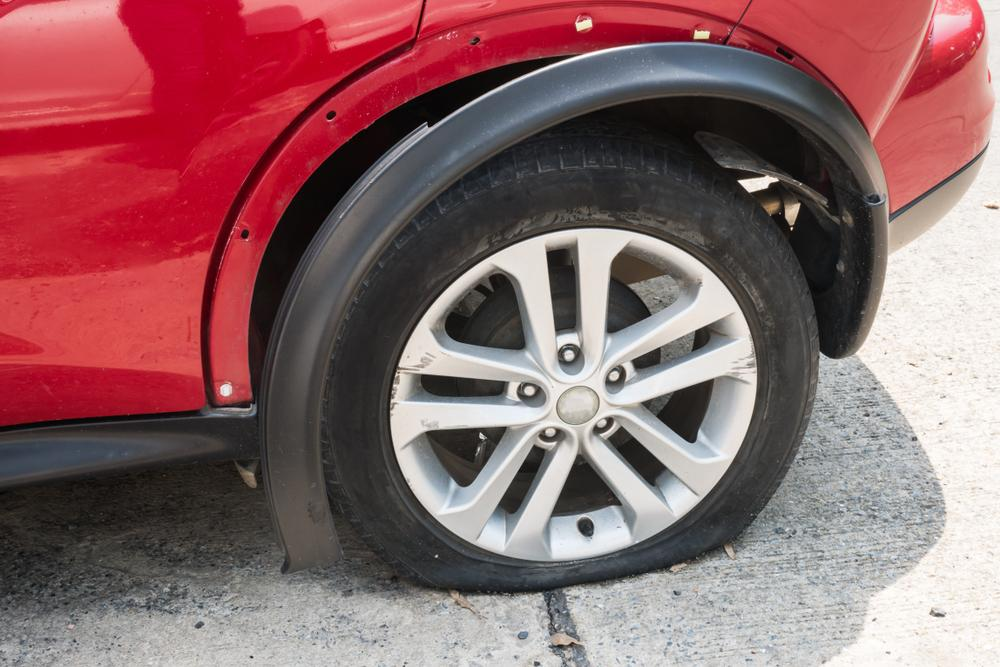tire flat: (318, 127, 822, 594)
